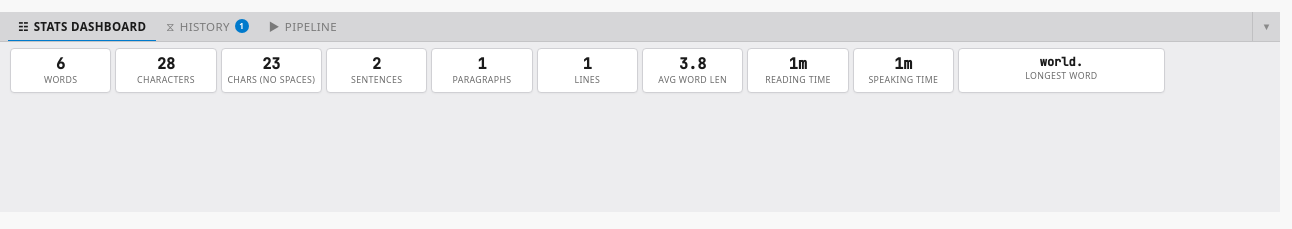
BottomPanel › shows history entries when present
The width and height of the screenshot is (1292, 229).
Step 1. Click the button "⧖ History 1" → (208, 26), box [156,12,259,41]
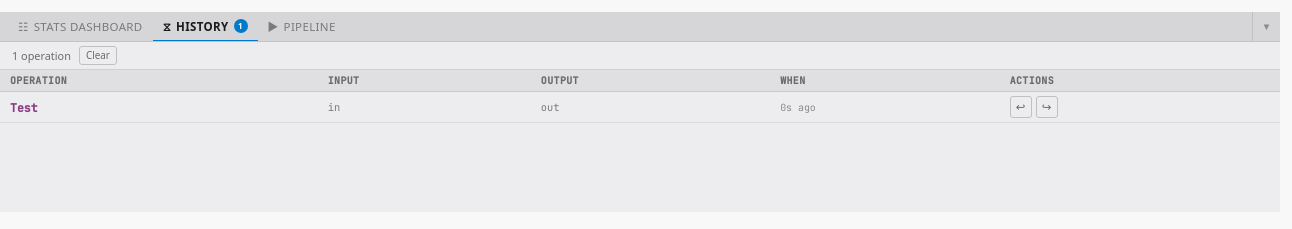
Now the text "Test" is shown, box [0,91,318,123]
Now the text "1 operation" is shown, box [12,48,71,63]
